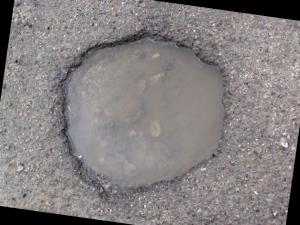pothole: (43, 17, 238, 212)
